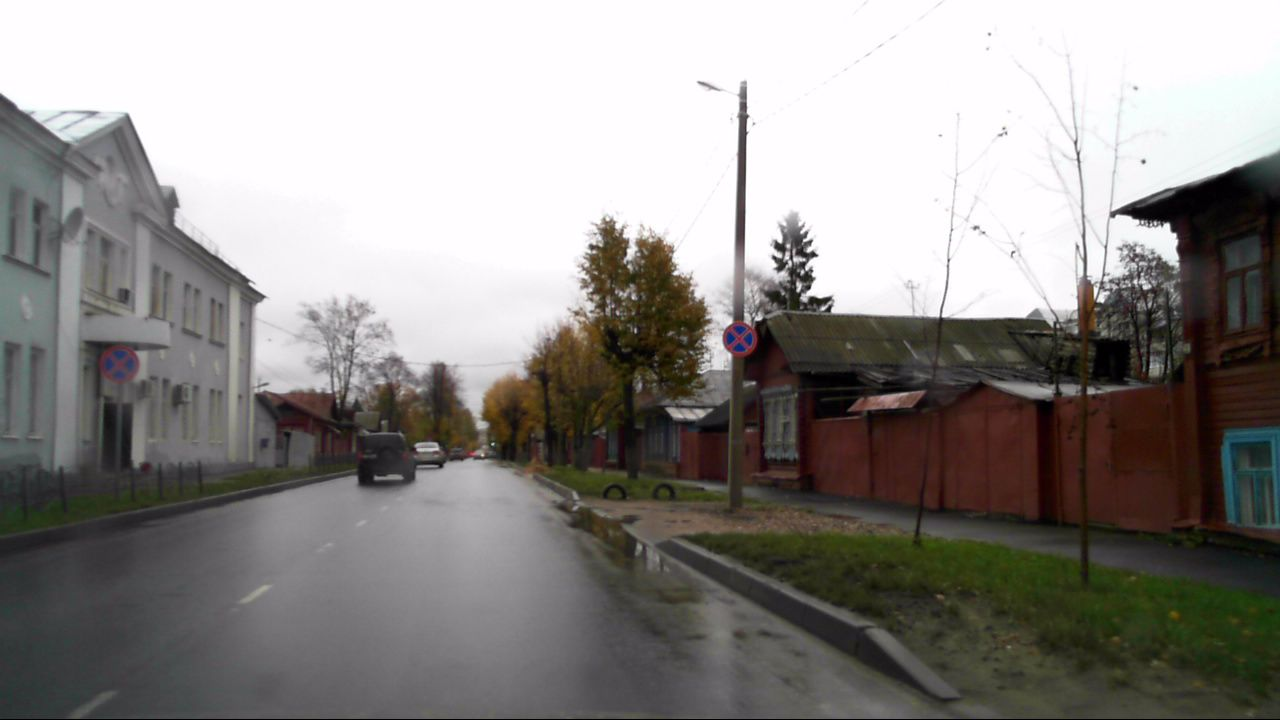No Parking: (722, 321, 757, 356)
